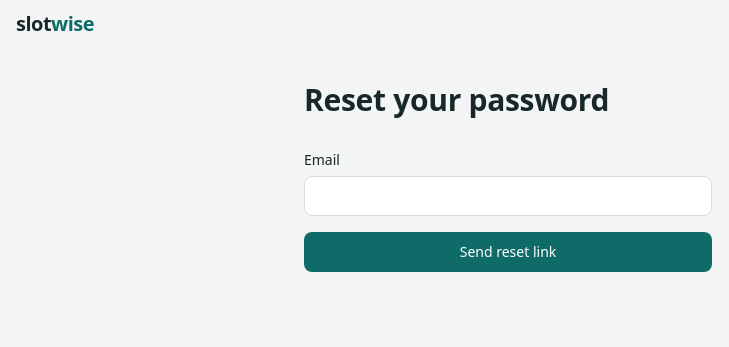
forgot password › reports a rate limit instead of pretending an email was sent
The width and height of the screenshot is (729, 347).
Type "someone@example.com" into the field labelled "Email".
click(508, 196); type("someone@example.com")  # box [304,176,712,216]
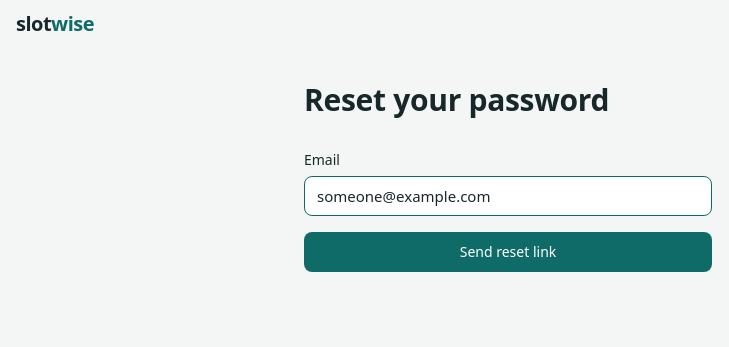
Click the button "Send reset link".
click(508, 252)  # box [304,232,712,272]
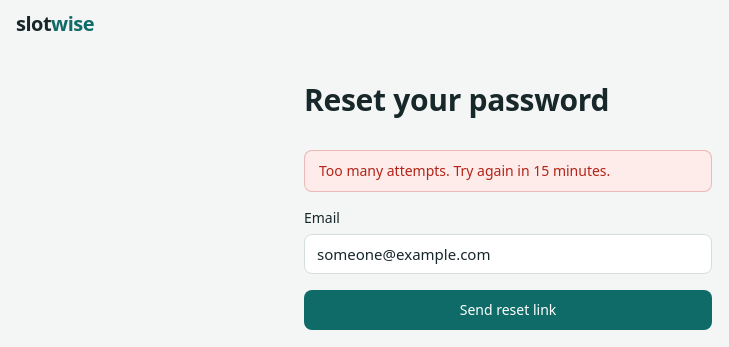
Check: the message shows "Too many attempts", box [319,161,610,180]
